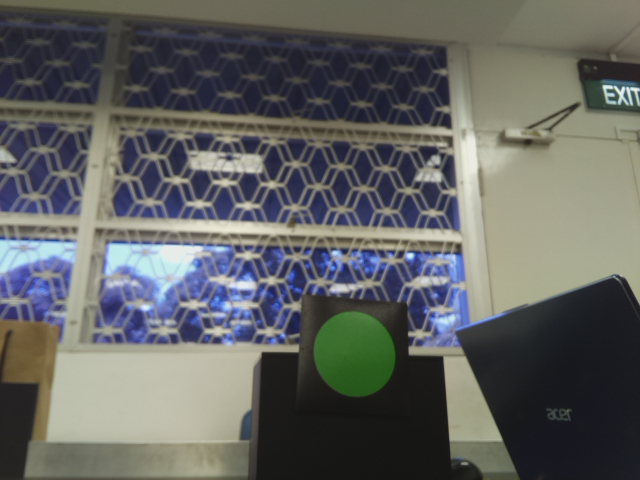go: (308, 302, 399, 412)
